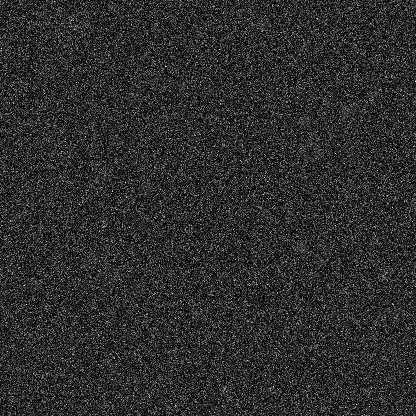Ring: (66, 8, 90, 32), (97, 261, 121, 285), (298, 139, 322, 163)
Spot: (125, 88, 141, 104), (230, 133, 246, 149), (261, 88, 277, 104), (364, 86, 380, 102), (93, 161, 109, 177), (251, 15, 267, 31), (103, 358, 119, 374), (386, 307, 402, 323), (85, 253, 101, 269), (50, 25, 66, 41), (162, 354, 178, 370), (151, 379, 167, 395), (290, 238, 306, 254), (192, 305, 208, 321), (218, 384, 234, 400), (296, 113, 312, 129), (376, 263, 392, 279), (28, 276, 44, 292), (139, 180, 155, 196), (338, 102, 354, 118)
